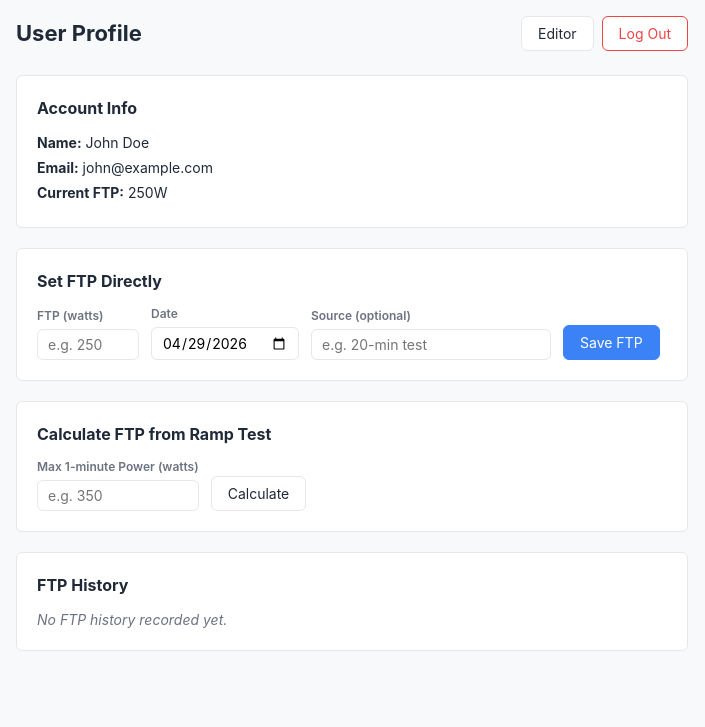
Test case: Profile › shows error for invalid FTP value
The width and height of the screenshot is (705, 727).
Type "10" into the number field labelled "FTP (watts)" at (88, 344), box [37,329,139,360]
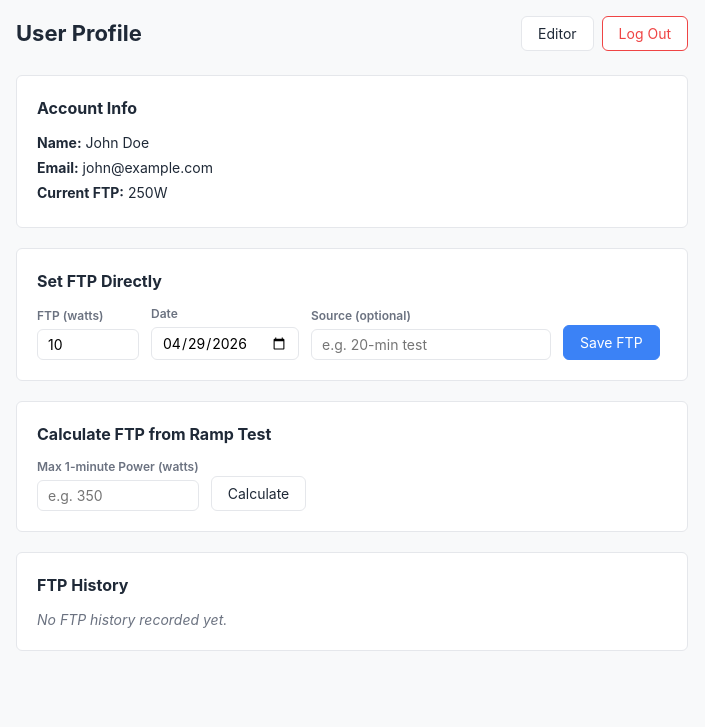
Submit the text "Save FTP", box [37,305,667,360]
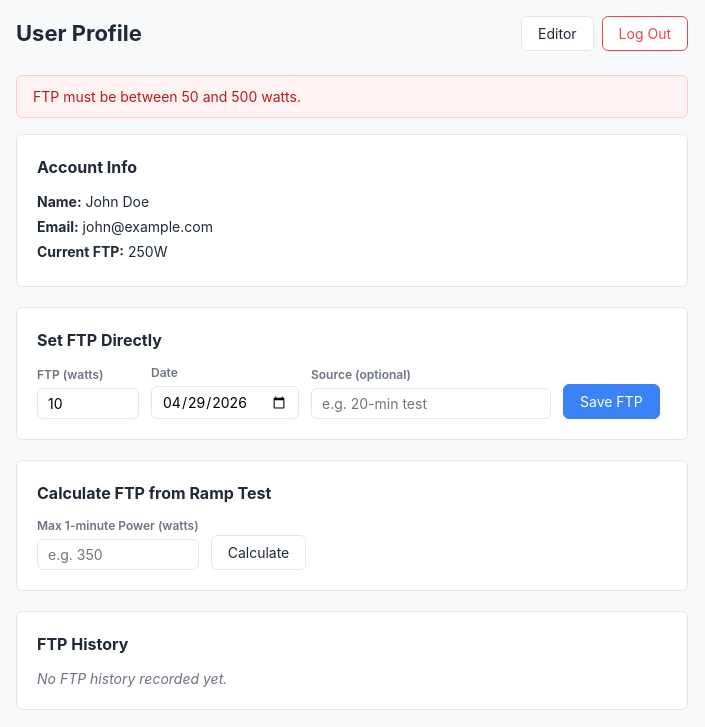
Now the text "FTP must be between 50 and 500 watts." is shown, box [16,75,688,118]
